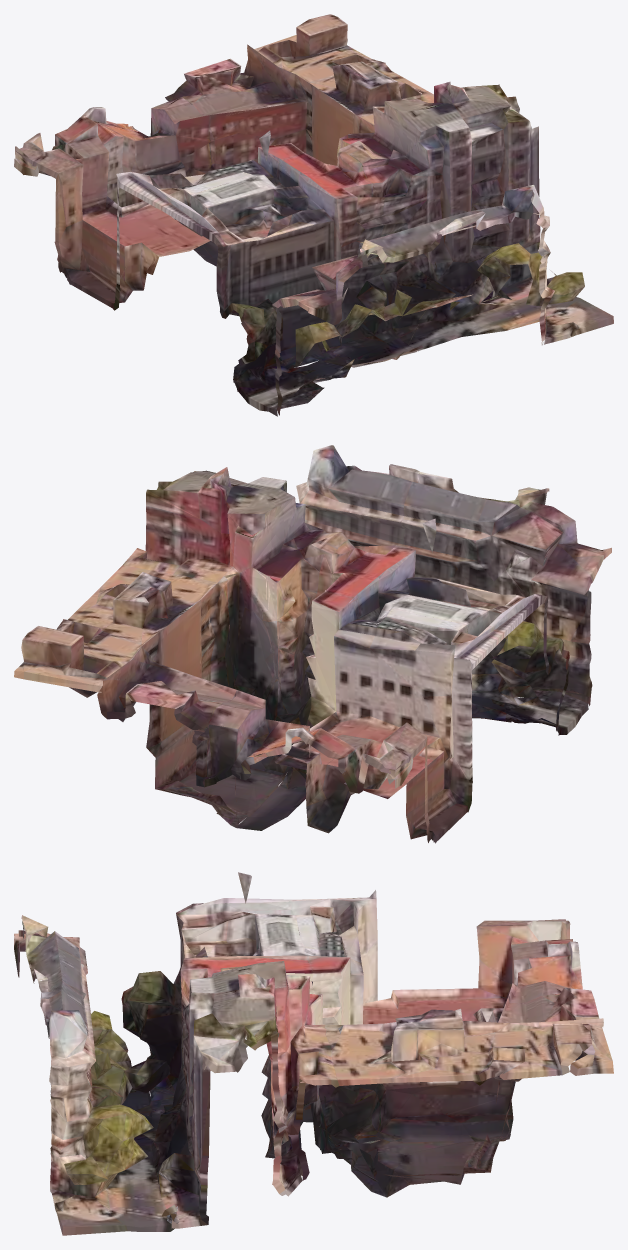
3 renders of one model, top to bottom at view 1: azimuth 30°, elevation 25°; view 2: azimuth 150°, elevation 25°; view 3: azimuth 270°, elevation 25°, orthographic. The views are drawn at different scales.
Visible parts, largest first — view 1: Mesh_0; view 2: Mesh_0; view 3: Mesh_0.
Part boxes in pixels (<box>): Mesh_0: <box>14,14,613,416</box>; Mesh_0: <box>14,445,611,843</box>; Mesh_0: <box>14,872,613,1235</box>.
Bounding box in the file's own units: 66.57 × 37.79 × 82.46.
1 material, 1 textured.
